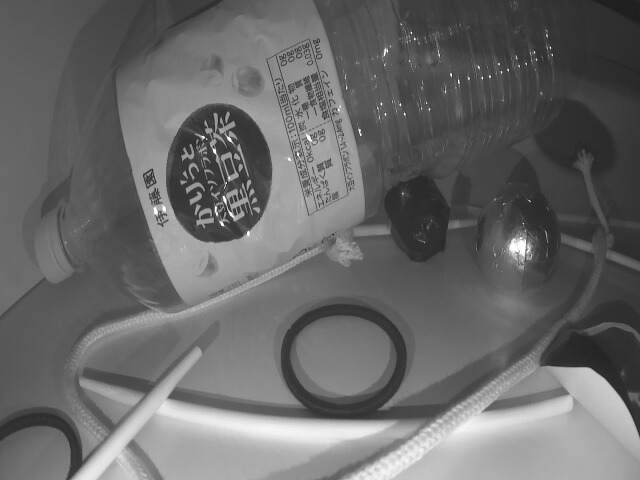Dead: (389, 185, 447, 257)
Live: (477, 184, 558, 288)
